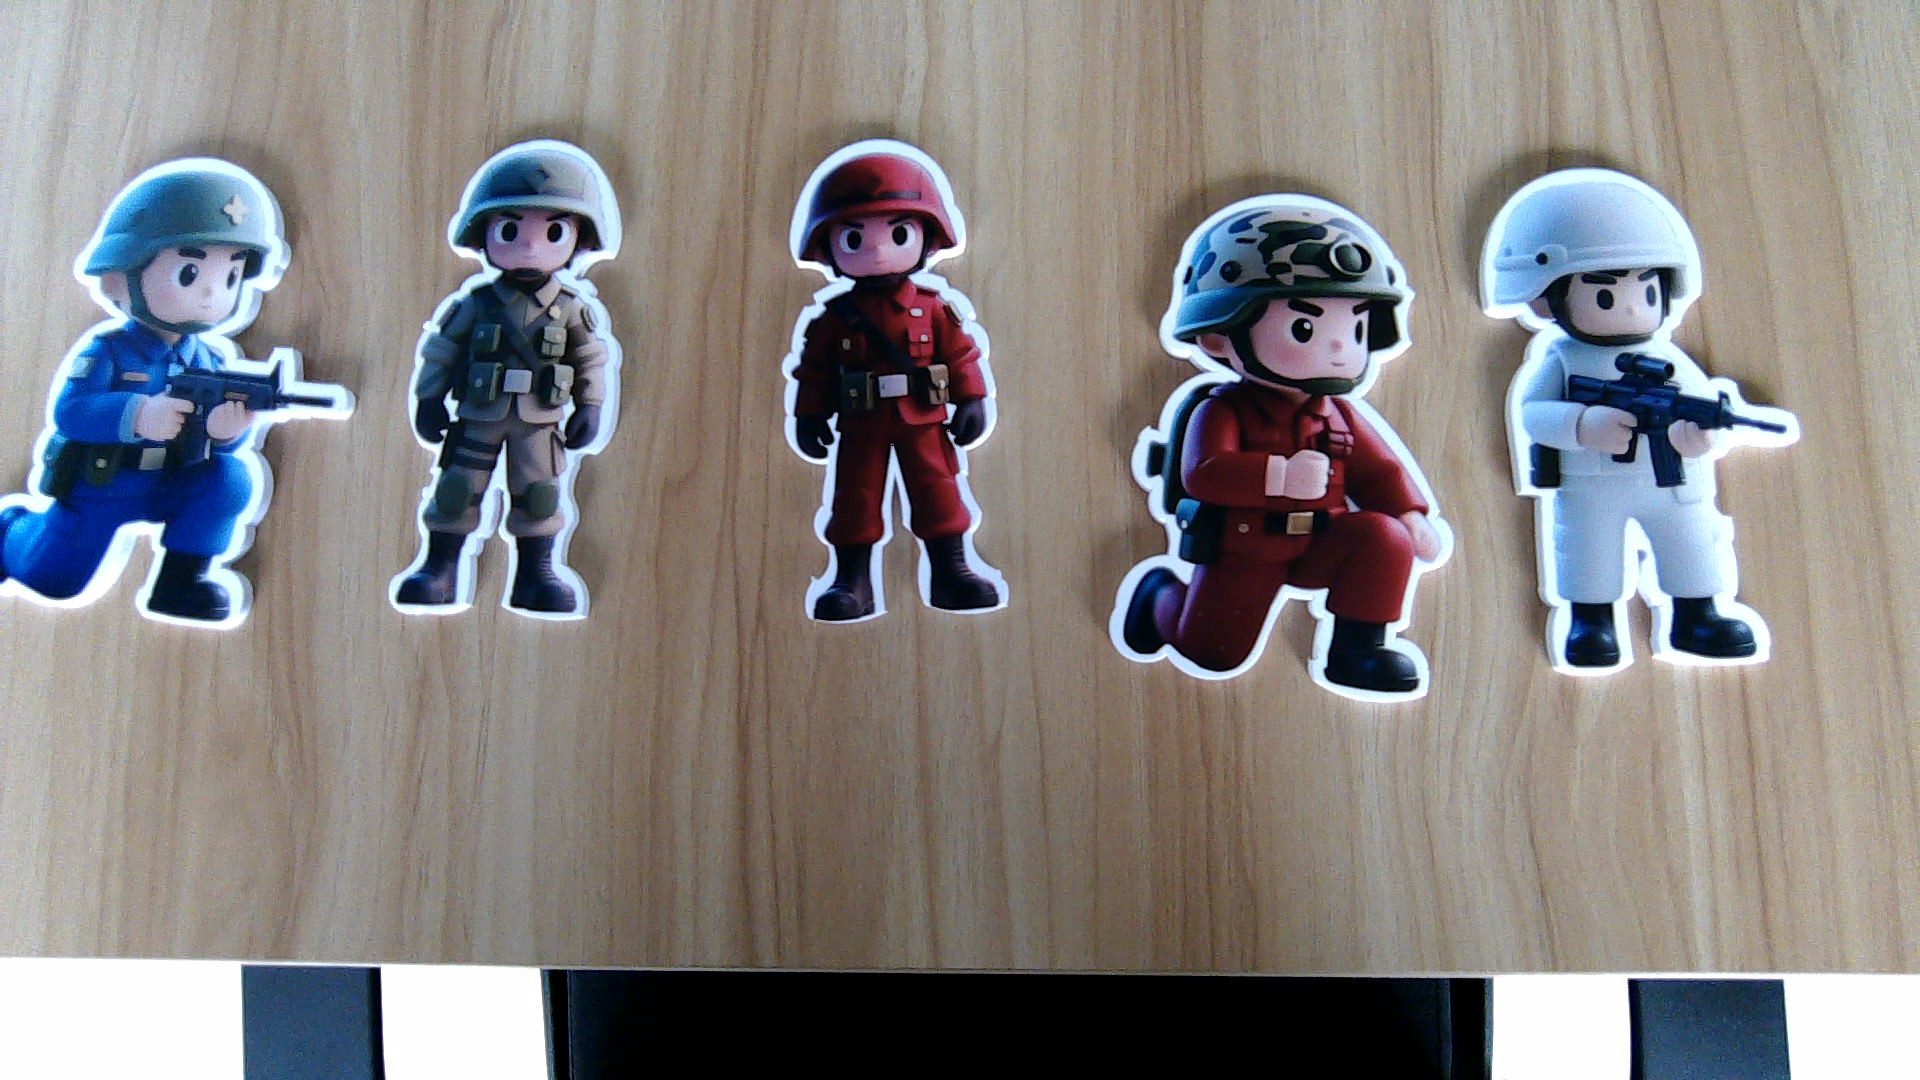人质: (1499, 348, 1803, 680)
友军: (386, 280, 617, 621)
敌人1: (1106, 390, 1455, 705), (775, 280, 1015, 626)
